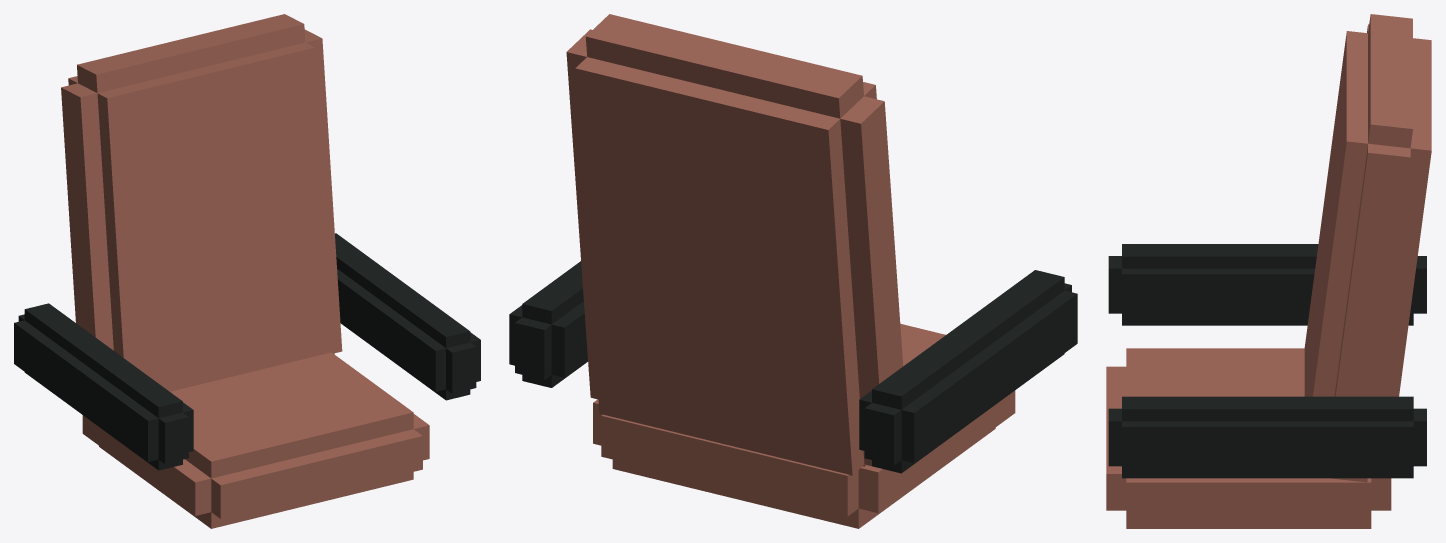
The model's file is fixture_cinema_seat.glb.
3 views of the same model, side by side, from view 1: azimuth 30°, elevation 25°; view 2: azimuth 150°, elevation 25°; view 3: azimuth 270°, elevation 25° (orthographic). The views are drawn at different scales.
Parts seen in each view (by area): view 1: fixture_cinema_seat_Woven_3, fixture_cinema_seat_Grip_rubber; view 2: fixture_cinema_seat_Woven_3, fixture_cinema_seat_Grip_rubber; view 3: fixture_cinema_seat_Woven_3, fixture_cinema_seat_Grip_rubber.
Part boxes in pixels (x1,y1,x2,y2): fixture_cinema_seat_Woven_3: (61, 14, 429, 528); fixture_cinema_seat_Grip_rubber: (14, 233, 480, 470); fixture_cinema_seat_Woven_3: (566, 14, 1015, 528); fixture_cinema_seat_Grip_rubber: (509, 261, 1077, 473); fixture_cinema_seat_Woven_3: (1106, 14, 1431, 528); fixture_cinema_seat_Grip_rubber: (1108, 244, 1426, 478).
Size of the model in its own units: 0.88 by 0.9423 by 0.6848.
